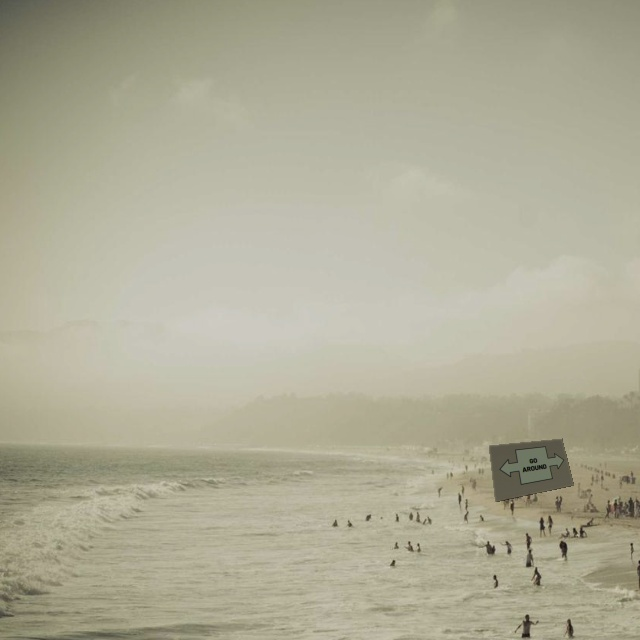GO_AROUND: (496, 442, 568, 488)
